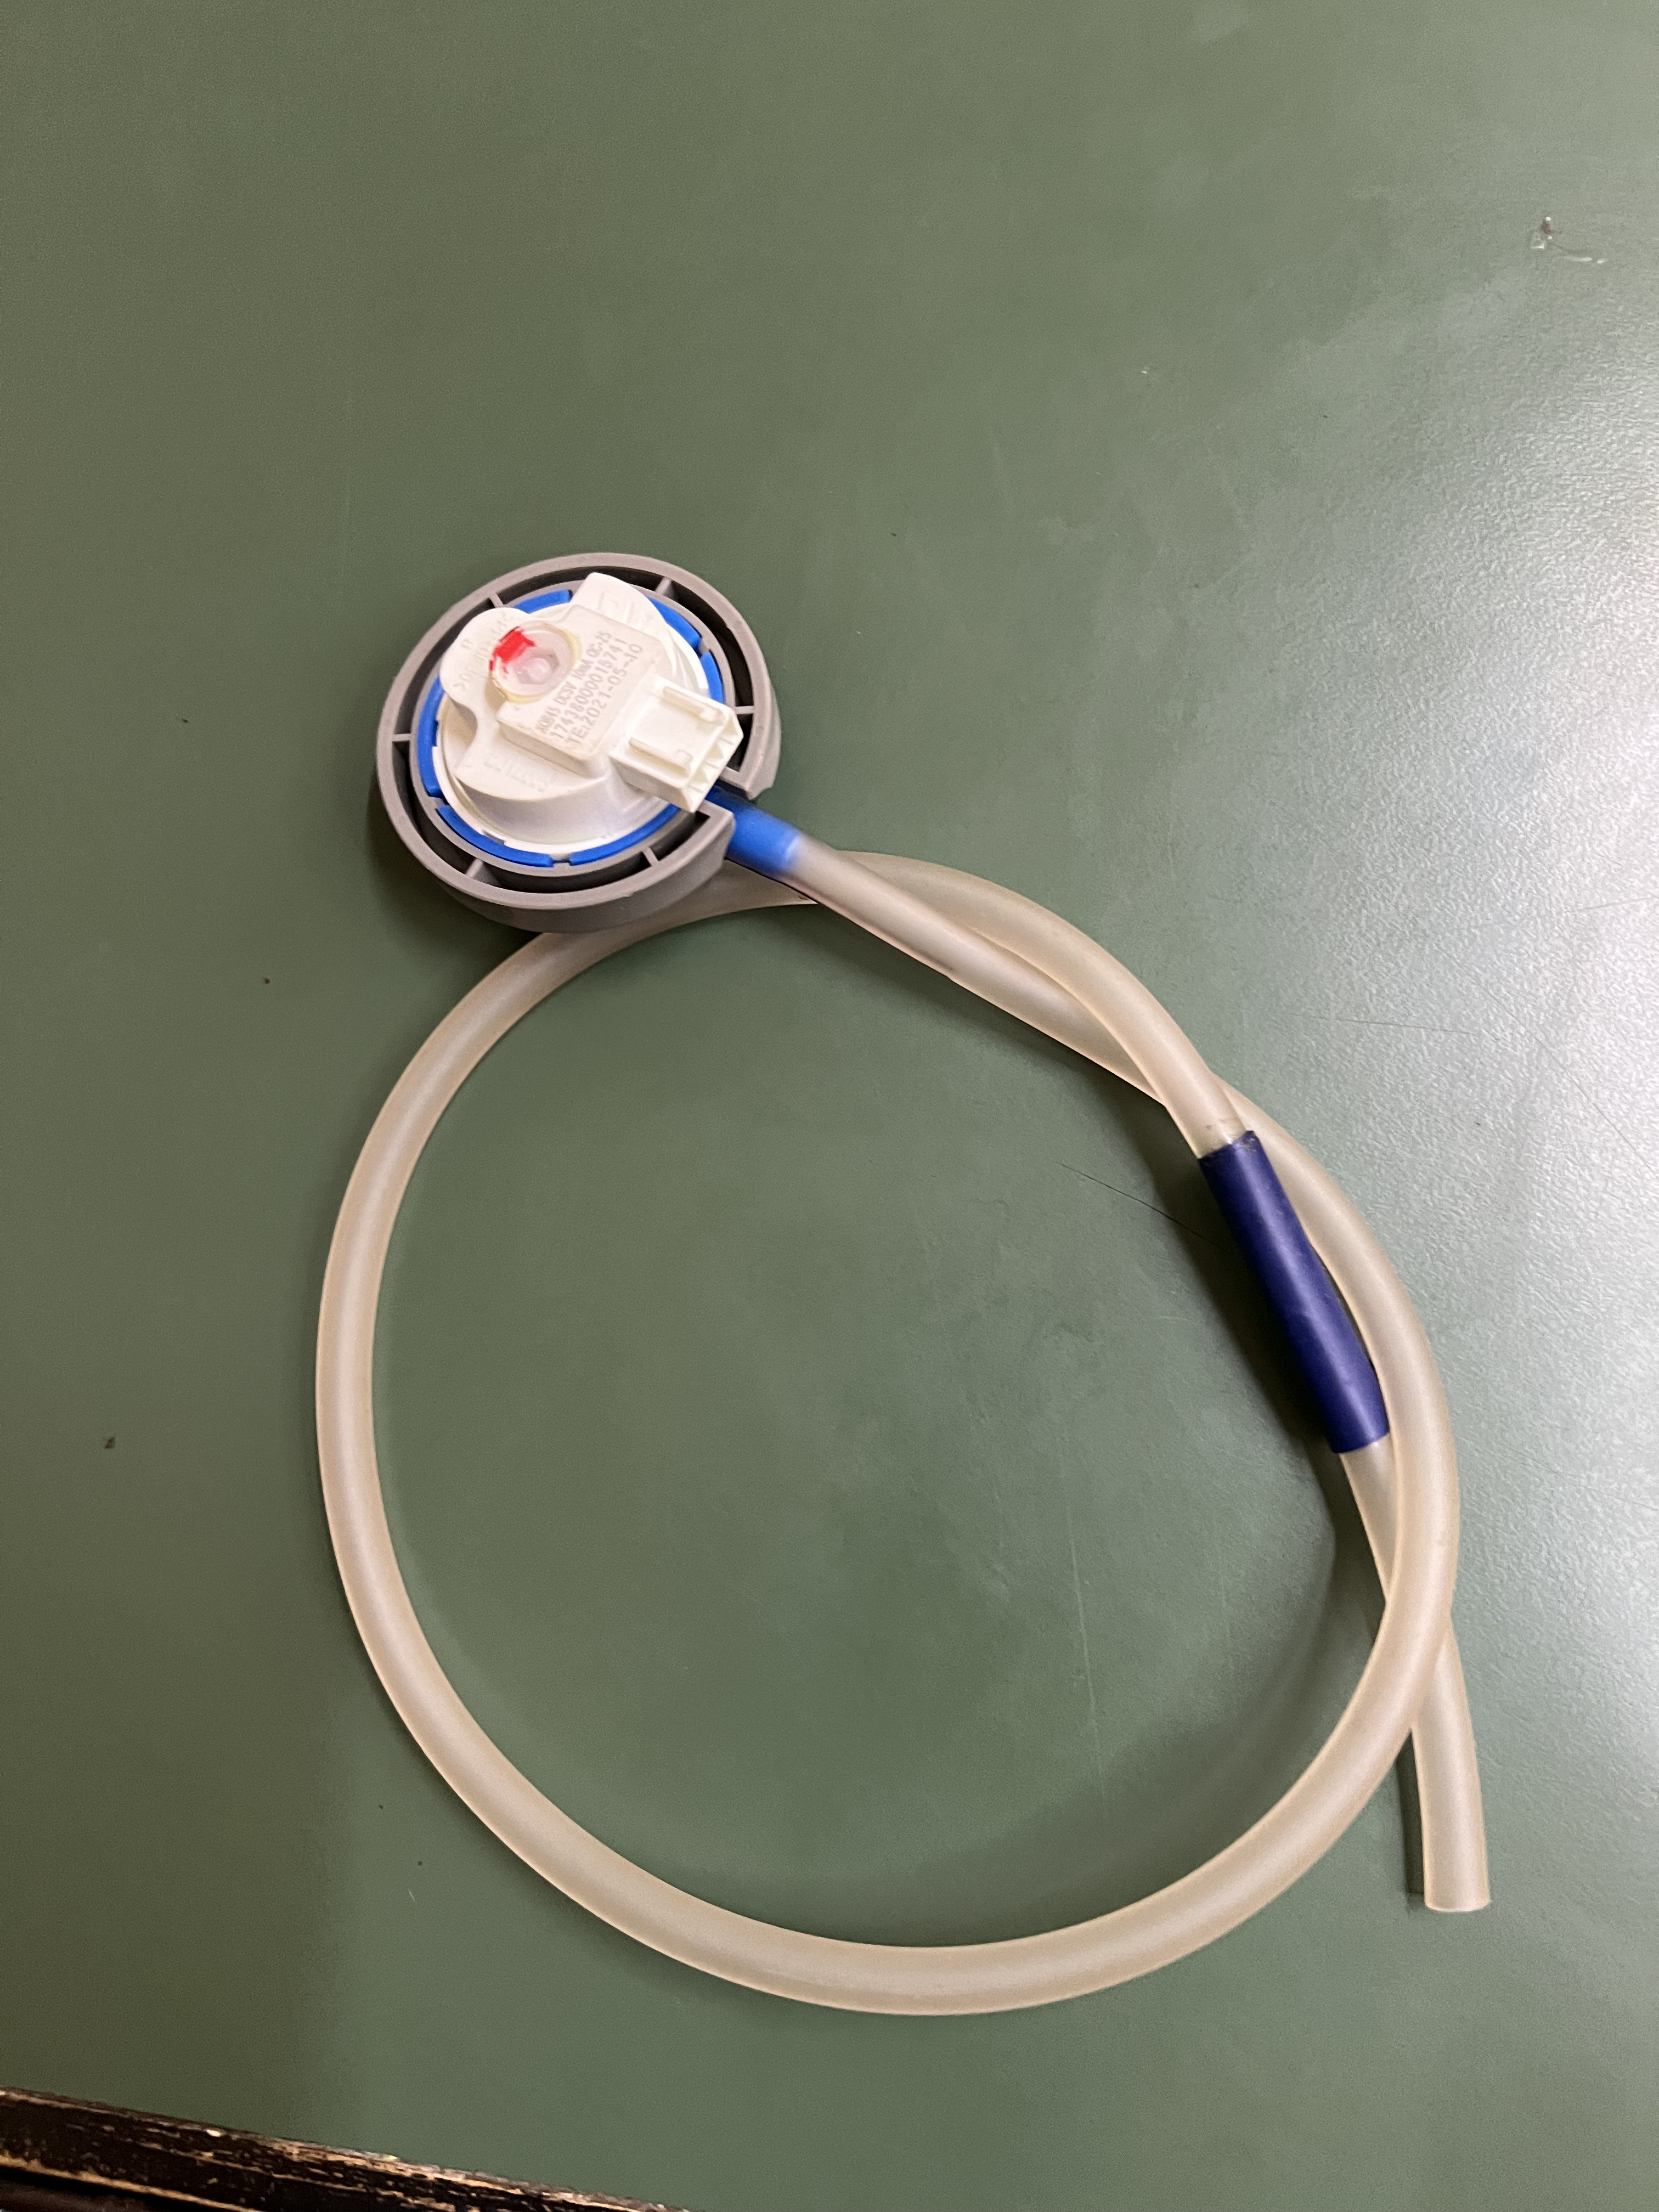pressure_sensor: (340, 498, 859, 967)
